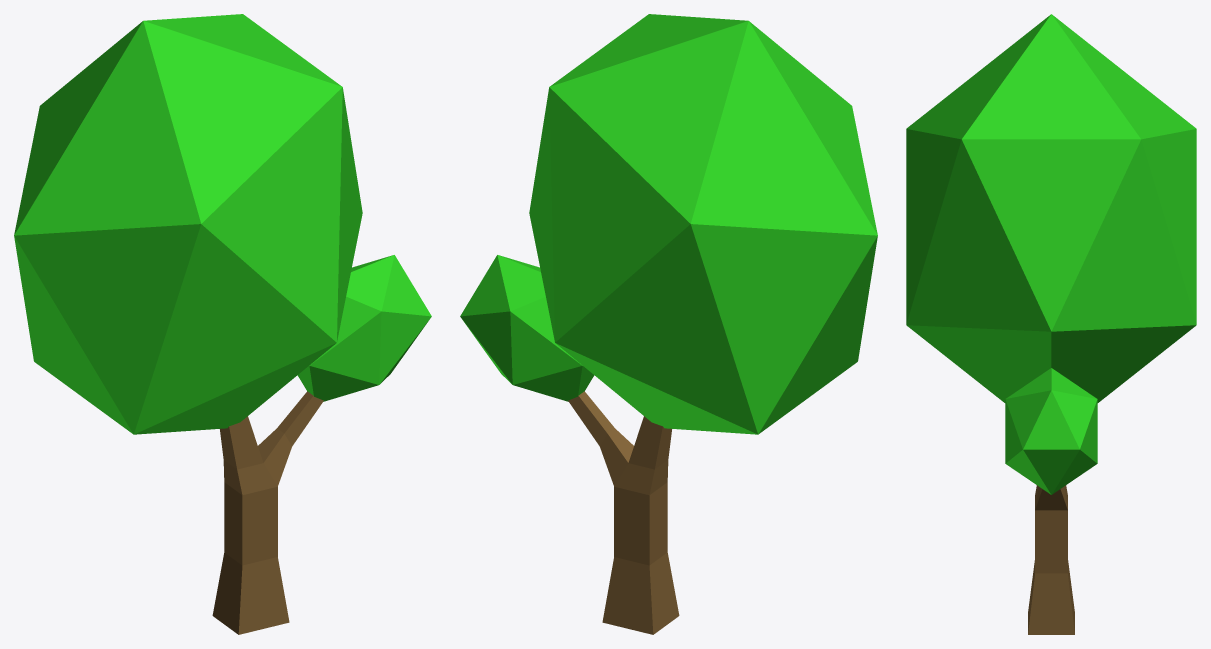
Rendered from Tree3.fbx.
3 views of the same model, side by side, from view 1: azimuth 30°, elevation 25°; view 2: azimuth 150°, elevation 25°; view 3: azimuth 270°, elevation 25° (orthographic). The views are drawn at different scales.
Parts seen in each view (by area): view 1: Tree.005; view 2: Tree.005; view 3: Tree.005.
Boxes of the visible parts, x1,y1,x2,y2 form: Tree.005: (14, 14, 431, 634); Tree.005: (460, 14, 877, 634); Tree.005: (906, 14, 1196, 634).
Size of the model in its own units: 402 by 597 by 280.
